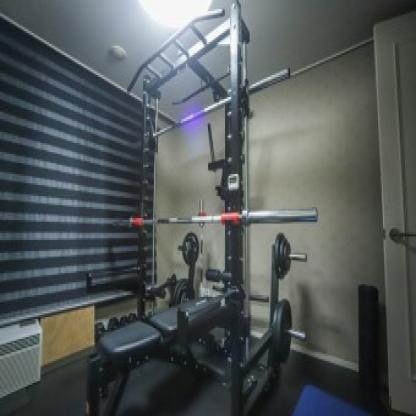smith machine: (126, 2, 296, 416)
